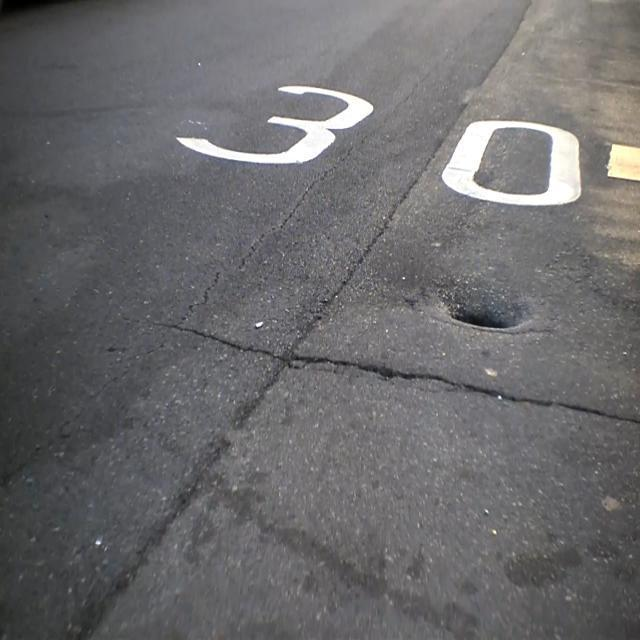Buraco: (435, 291, 535, 333)
